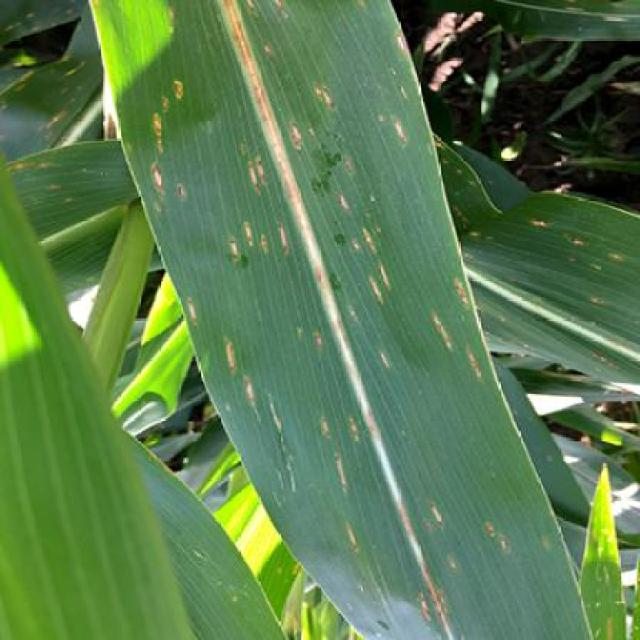Corn_Grey_Leaf_Spot: (131, 0, 558, 631)
